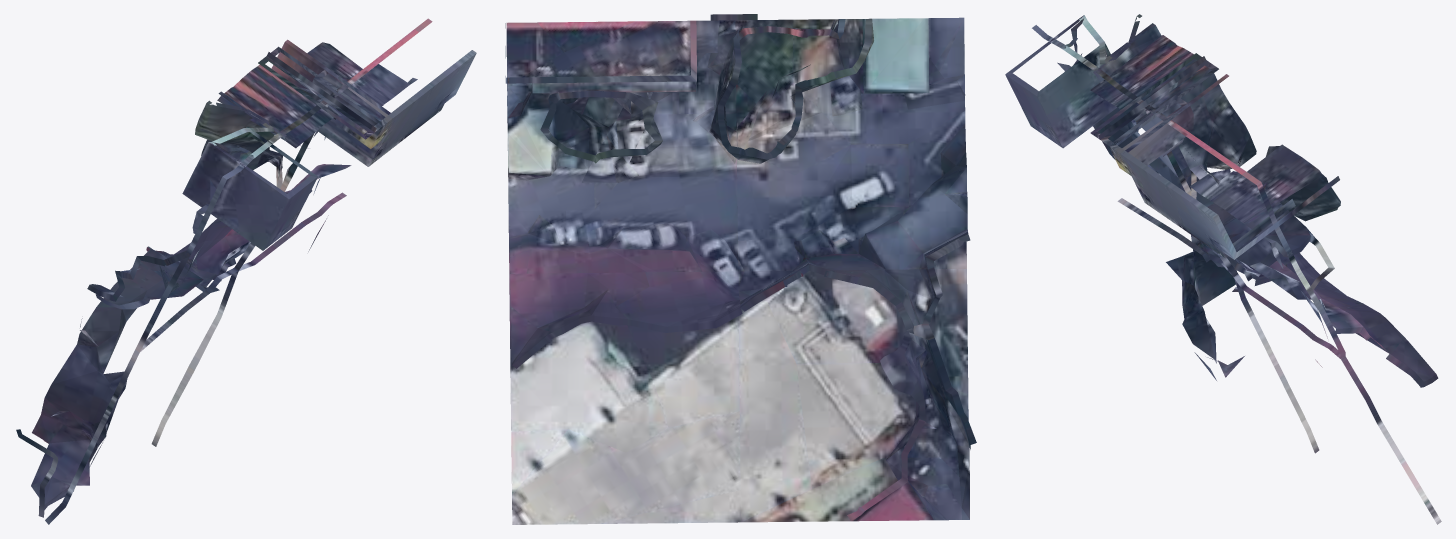
The picture shows the model from 3 angles, left to right: view 1: azimuth 30°, elevation 25°; view 2: azimuth 150°, elevation 25°; view 3: azimuth 270°, elevation 25°; orthographic projection. The views are drawn at different scales.
Size of the model in its own units: 42.26 by 37.71 by 34.92.
Materials: 2 (2 with a texture image).
